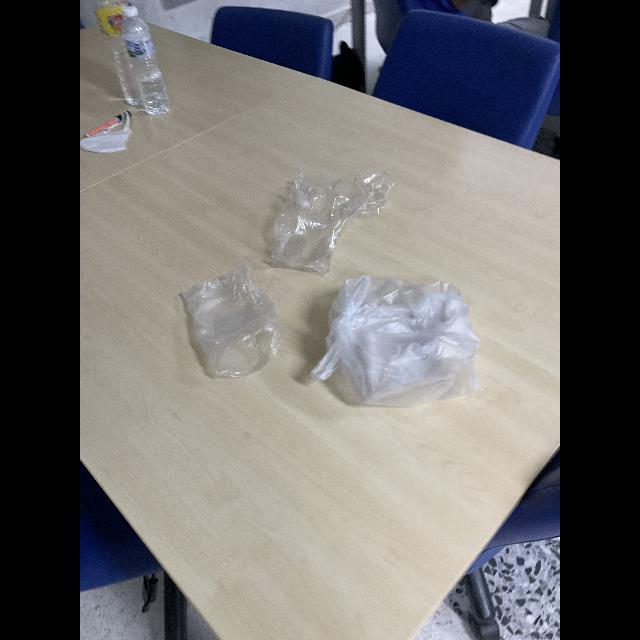plastic_bag: (314, 266, 483, 430), (268, 158, 399, 280), (170, 263, 284, 387)
plastic_bottle: (121, 0, 185, 122), (92, 0, 138, 111)
scrap_plastic: (80, 112, 138, 158)
